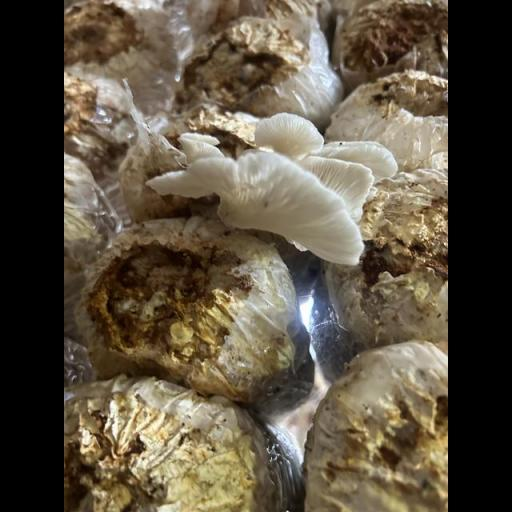White Oyster Mushroom: (139, 98, 416, 277)
